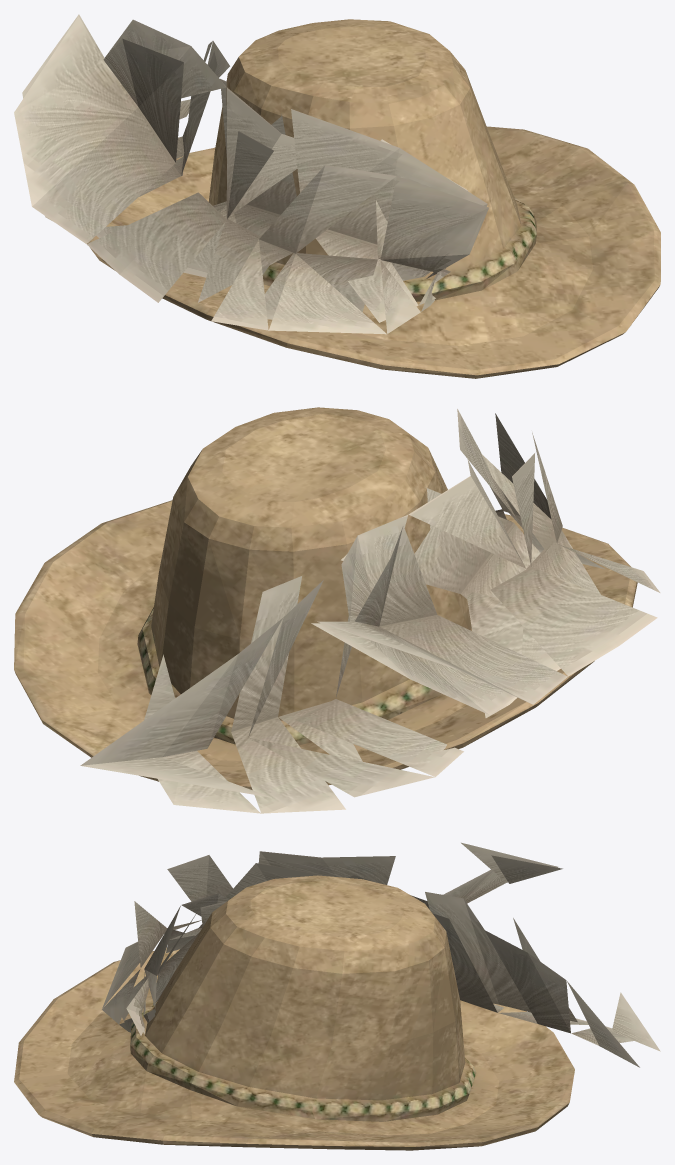
File: KOZA_KAPELUSZ_06.glb
3 renders of one model, top to bottom at view 1: azimuth 30°, elevation 25°; view 2: azimuth 150°, elevation 25°; view 3: azimuth 270°, elevation 25°, orthographic. The views are drawn at different scales.
Parts seen in each view (by area): view 1: KOZA_KAPELUSZ_06; view 2: KOZA_KAPELUSZ_06; view 3: KOZA_KAPELUSZ_06.
Boxes of the visible parts, box(x1,y1,x2,y2) form: KOZA_KAPELUSZ_06: box(14, 14, 660, 378); KOZA_KAPELUSZ_06: box(14, 407, 660, 813); KOZA_KAPELUSZ_06: box(14, 842, 660, 1150).
Size of the model in its own units: 0.405 by 0.1661 by 0.5117.
Materials: 2 (2 with a texture image).
